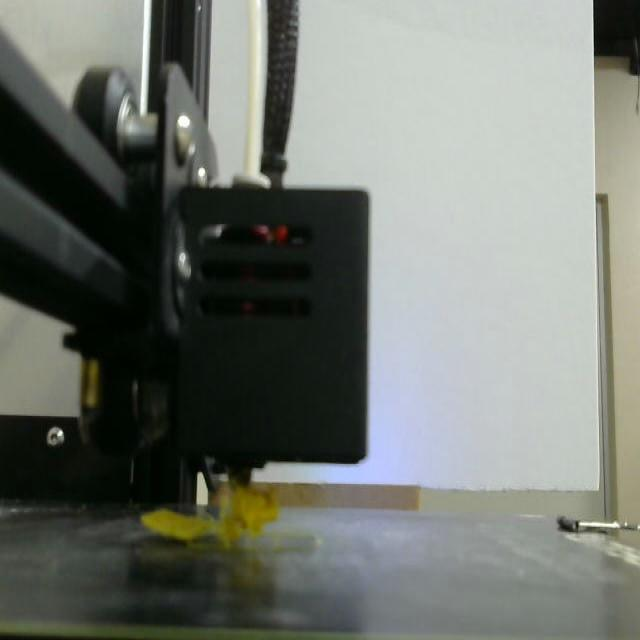spaghetti: (0, 0, 143, 106), (141, 485, 280, 547)
